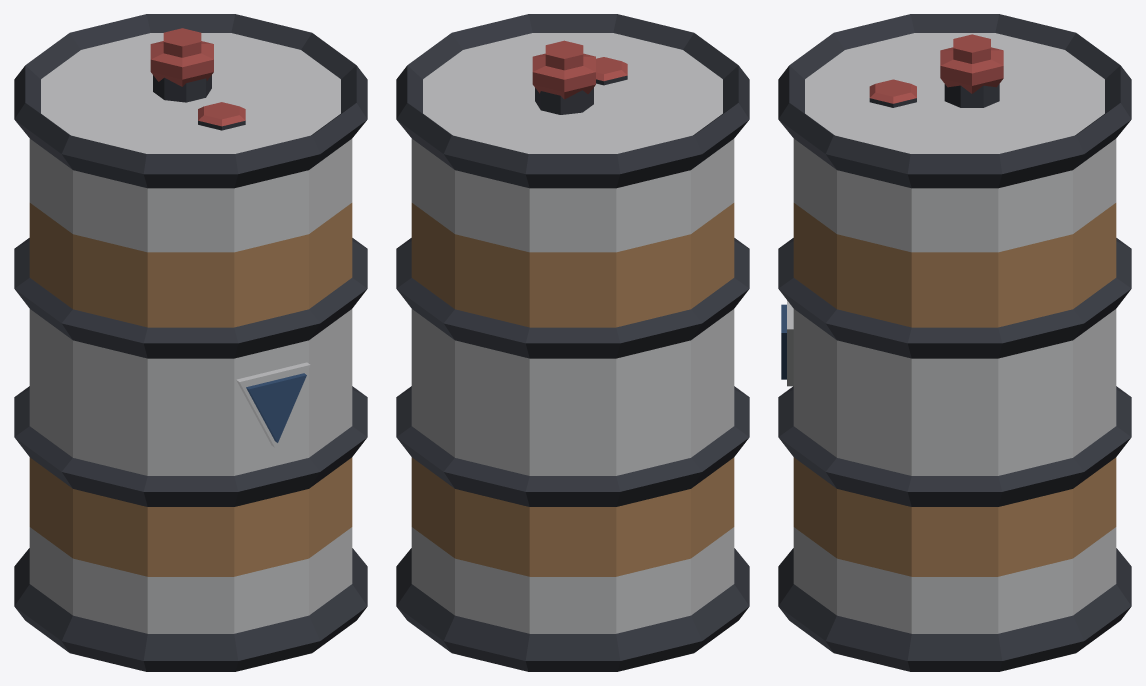
The model's file is fuel-drum-d65fa4.glb.
3 views of the same model, side by side, from view 1: azimuth 30°, elevation 25°; view 2: azimuth 150°, elevation 25°; view 3: azimuth 270°, elevation 25° (orthographic).
Visible parts, largest first — view 1: drum, valve-cap-mesh; view 2: drum, valve-cap-mesh; view 3: drum, valve-cap-mesh.
Boxes of the visible parts, bbox=[...] form: drum: bbox=[14, 14, 367, 671]; valve-cap-mesh: bbox=[150, 28, 213, 86]; drum: bbox=[396, 14, 749, 671]; valve-cap-mesh: bbox=[532, 40, 595, 99]; drum: bbox=[778, 14, 1131, 671]; valve-cap-mesh: bbox=[940, 34, 1003, 93].
Size of the model in its own units: 0.6182 by 1.08 by 0.6182.
